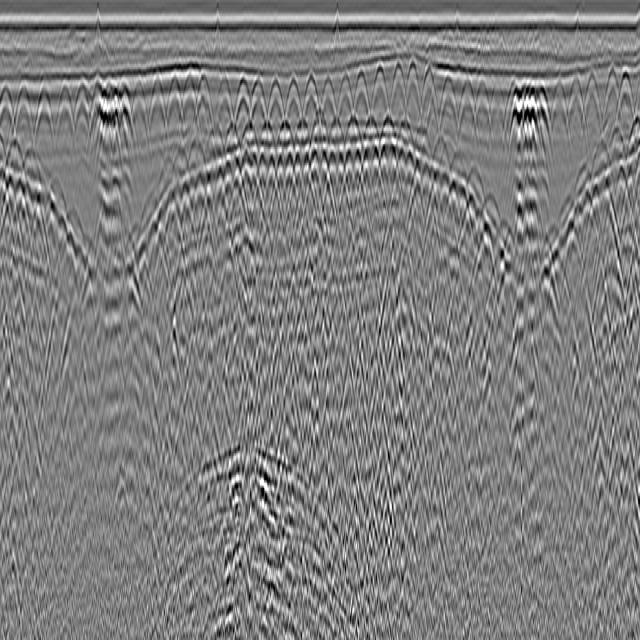hyperbola: (111, 74, 138, 176), (144, 77, 170, 161), (434, 58, 458, 143), (564, 68, 585, 153), (452, 81, 476, 153), (162, 78, 184, 156), (472, 61, 490, 156), (614, 68, 635, 148), (417, 64, 439, 138), (34, 80, 54, 160), (70, 81, 92, 153), (368, 58, 390, 130), (580, 77, 602, 148), (549, 80, 567, 166), (12, 80, 34, 150), (386, 55, 408, 125), (264, 65, 284, 140), (602, 64, 621, 142), (403, 61, 420, 140), (318, 71, 338, 138), (248, 68, 267, 138), (193, 71, 212, 140), (489, 71, 506, 148), (281, 77, 302, 138), (54, 87, 74, 151), (335, 68, 354, 135), (351, 68, 370, 135), (131, 78, 147, 156), (300, 74, 319, 135), (536, 80, 551, 156), (86, 77, 102, 148), (211, 84, 234, 130), (180, 80, 197, 142), (232, 77, 251, 130), (7, 126, 24, 182), (0, 81, 14, 148)
